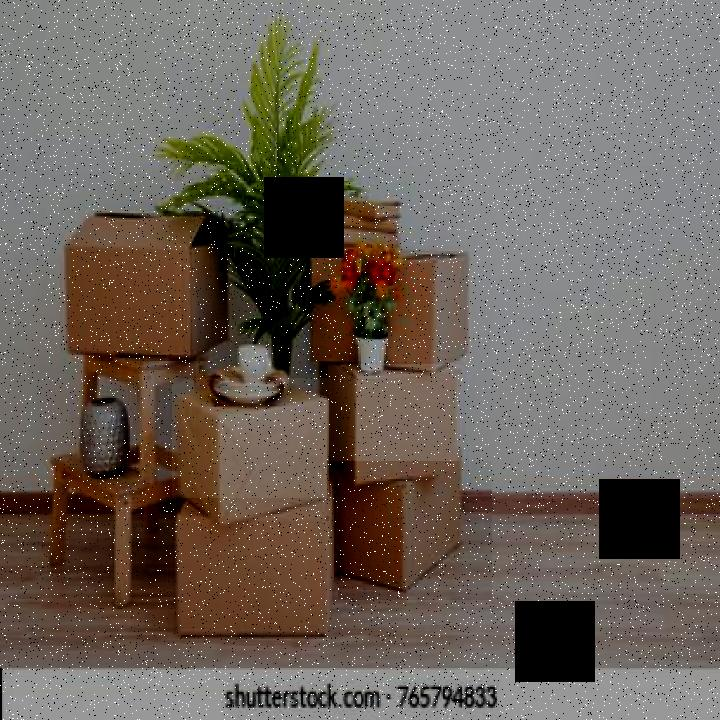box: (61, 204, 228, 374), (166, 498, 338, 648), (172, 378, 335, 529), (327, 462, 492, 602), (306, 246, 469, 374), (328, 364, 458, 491)
